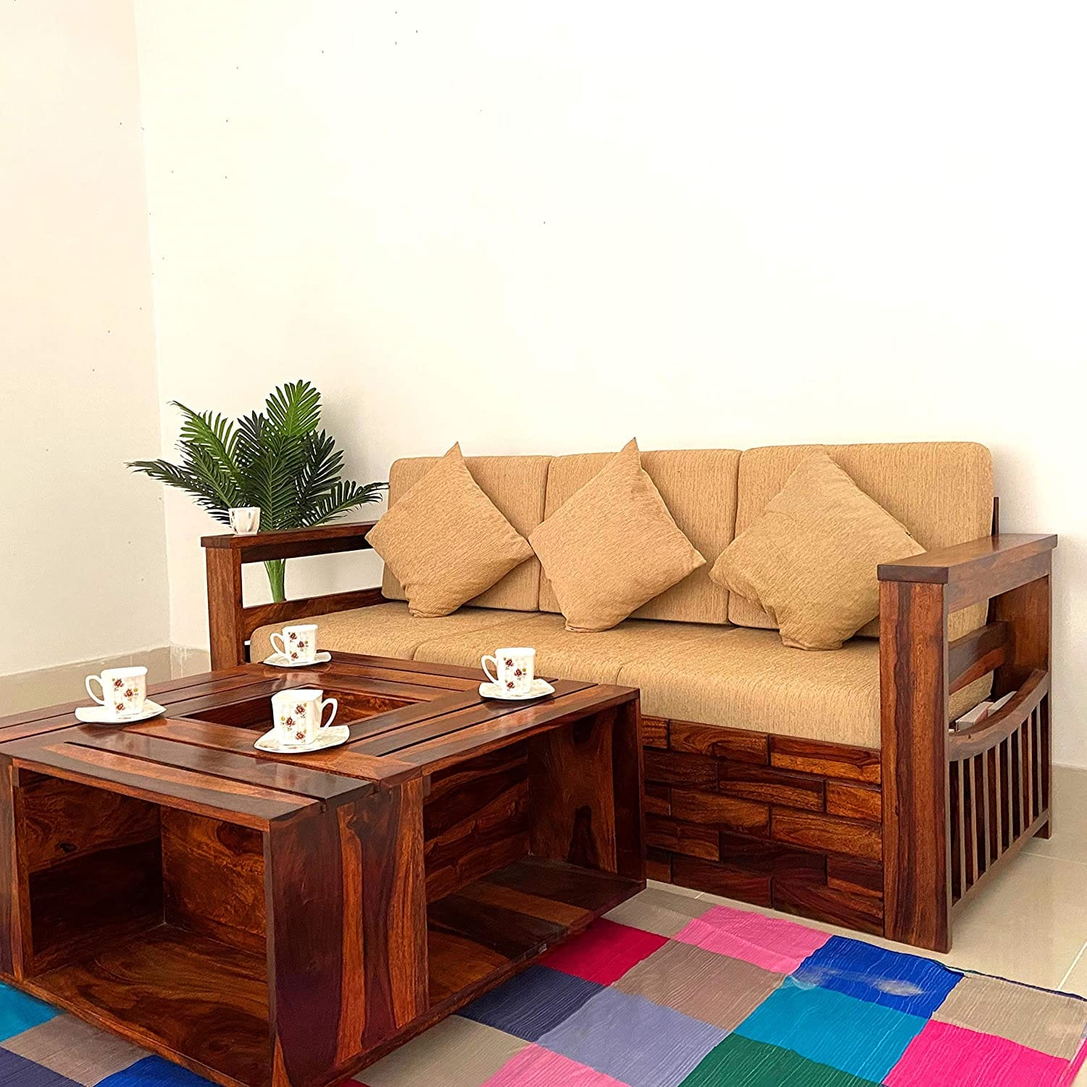3seatersofa: (204, 441, 1055, 950)
backrest: (634, 443, 993, 628), (467, 453, 613, 538), (470, 559, 557, 612), (388, 458, 438, 504), (949, 605, 986, 638), (859, 620, 877, 637)
base: (643, 715, 883, 933)
leftarmrest: (878, 534, 1057, 611)
leg: (880, 573, 1051, 951), (207, 550, 386, 670)
pillow: (711, 453, 923, 649), (530, 439, 705, 631), (368, 444, 533, 617)
rightarmrest: (201, 522, 375, 562)
seat: (304, 600, 878, 745)
